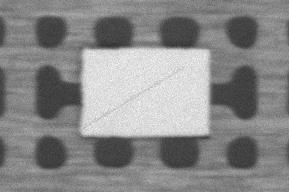DIE_CRACK: (125, 45, 274, 85)
